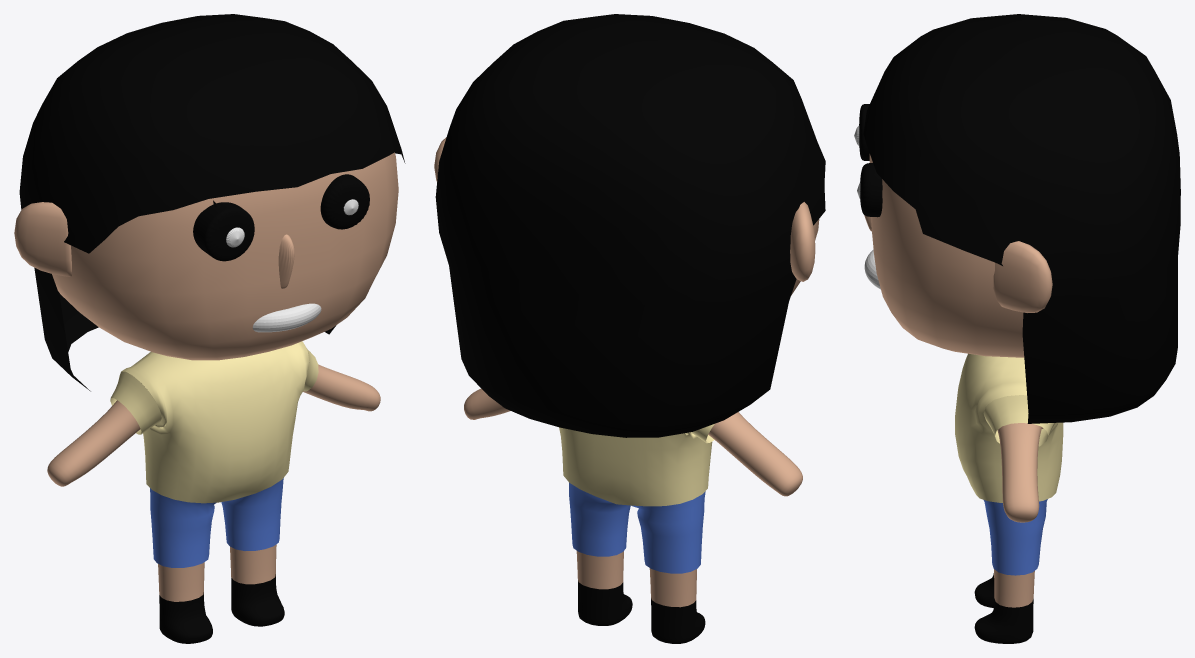
Rendered from CharacterFinal.fbx.
3 views of the same model, side by side, from view 1: azimuth 30°, elevation 25°; view 2: azimuth 150°, elevation 25°; view 3: azimuth 270°, elevation 25° (orthographic). The views are drawn at different scales.
Parts seen in each view (by area): view 1: Body, Torus; view 2: Body; view 3: Body.
Part boxes in pixels (x1=…): Body: x1=14, y1=14, x2=405, y2=643; Torus: x1=252, y1=303, x2=321, y2=332; Body: x1=434, y1=14, x2=825, y2=643; Body: x1=854, y1=14, x2=1180, y2=643.
Bounding box in the file's own units: 307 × 460 × 237.
